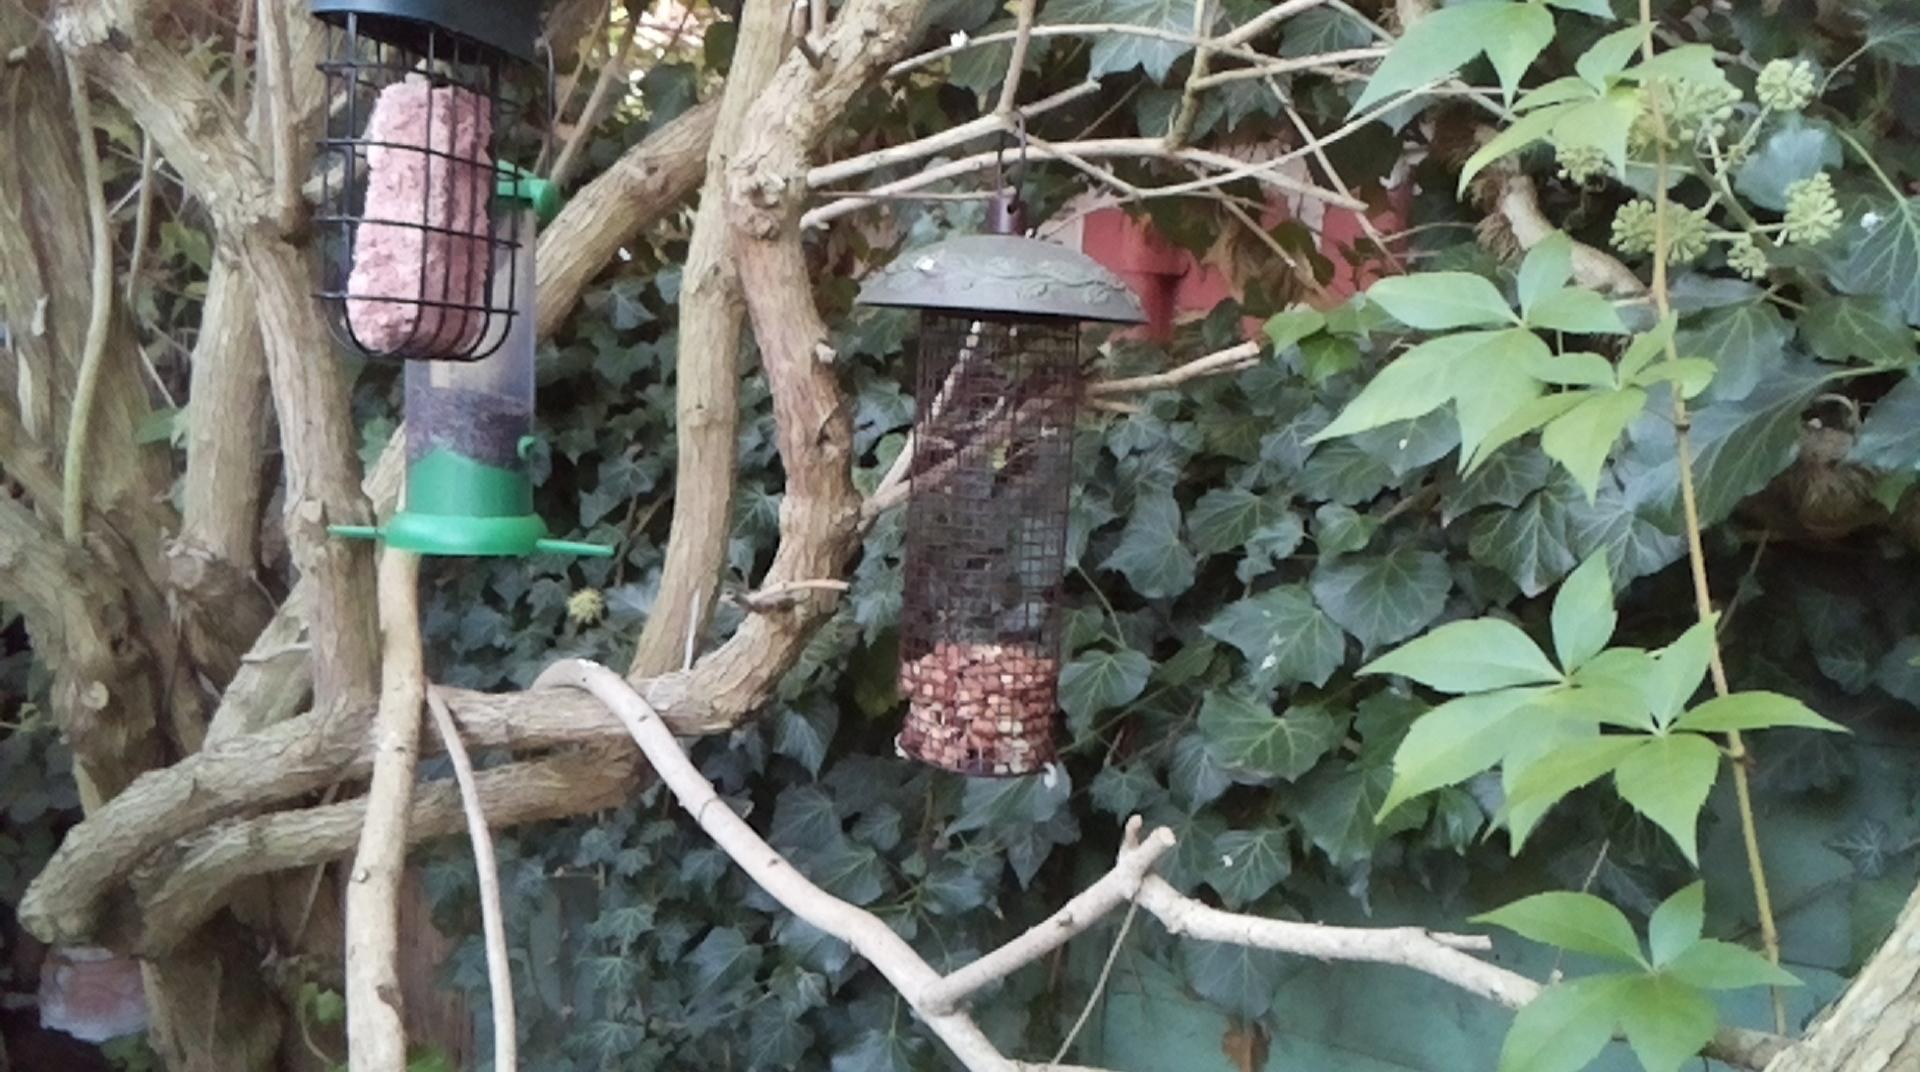unclassified: (1704, 426, 1919, 738)
